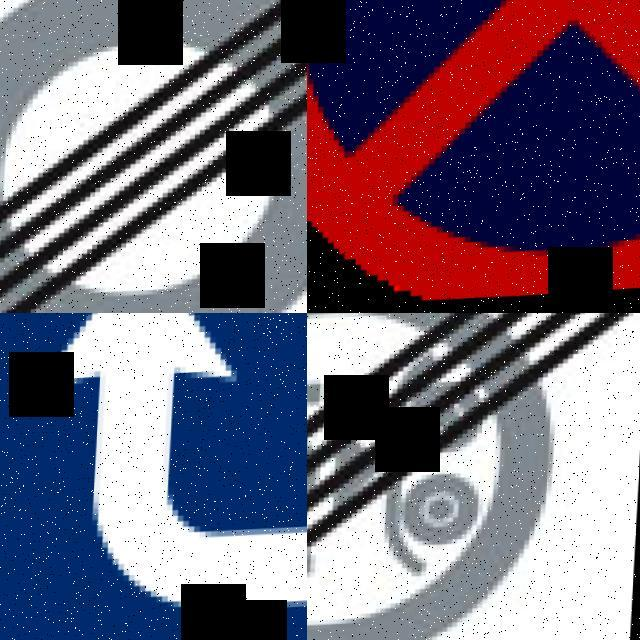111: (307, 313, 640, 640), (0, 0, 307, 313)
No stopping: (307, 0, 640, 313)
Turn left ahead: (0, 313, 307, 640)
